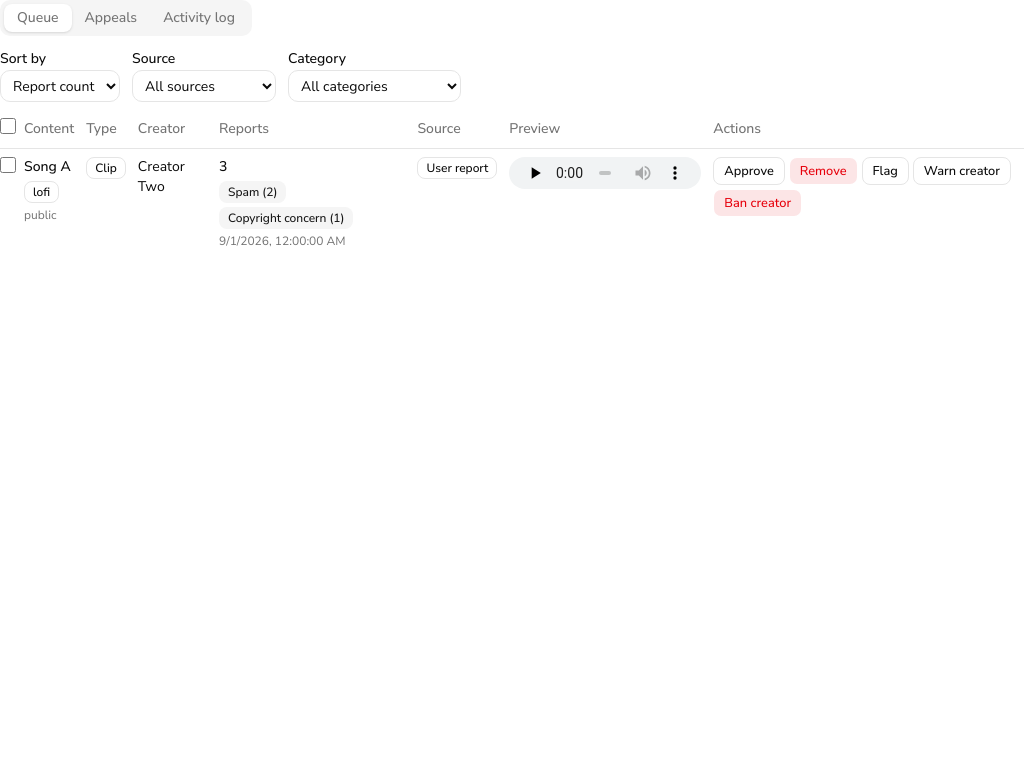
Test case: ModerationDashboard › bans a creator after confirmation (AC4)
Click the button "Ban creator": (758, 203) [713,189,802,217]
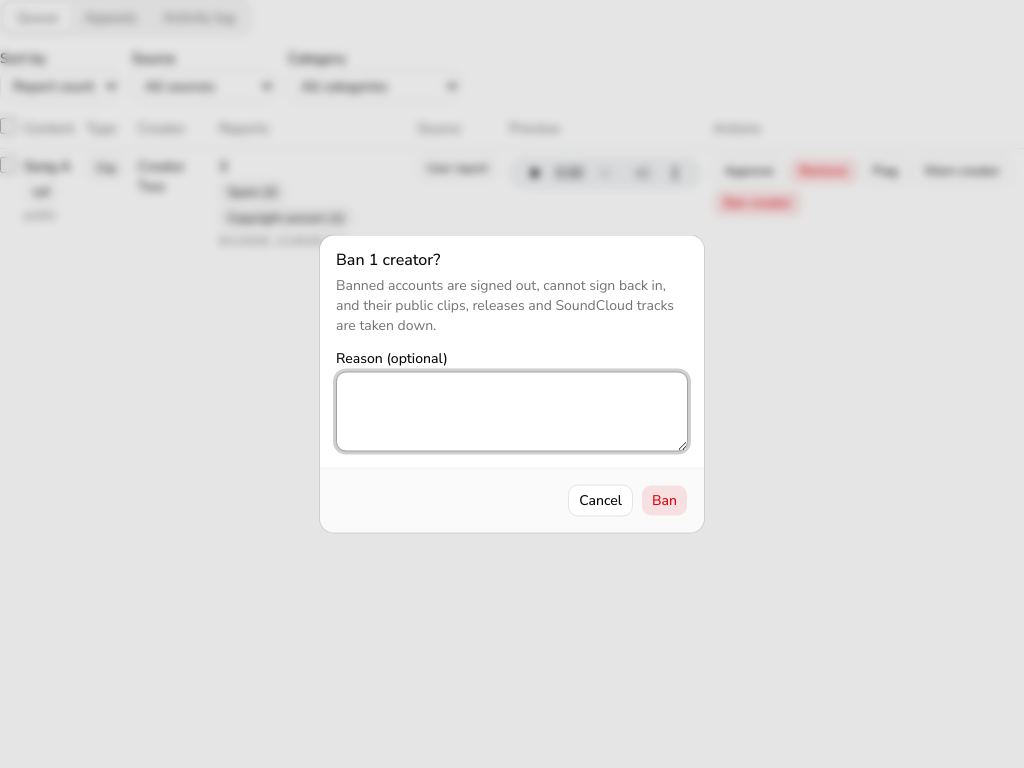
Click the button "Ban": (664, 500) [641,484,688,516]
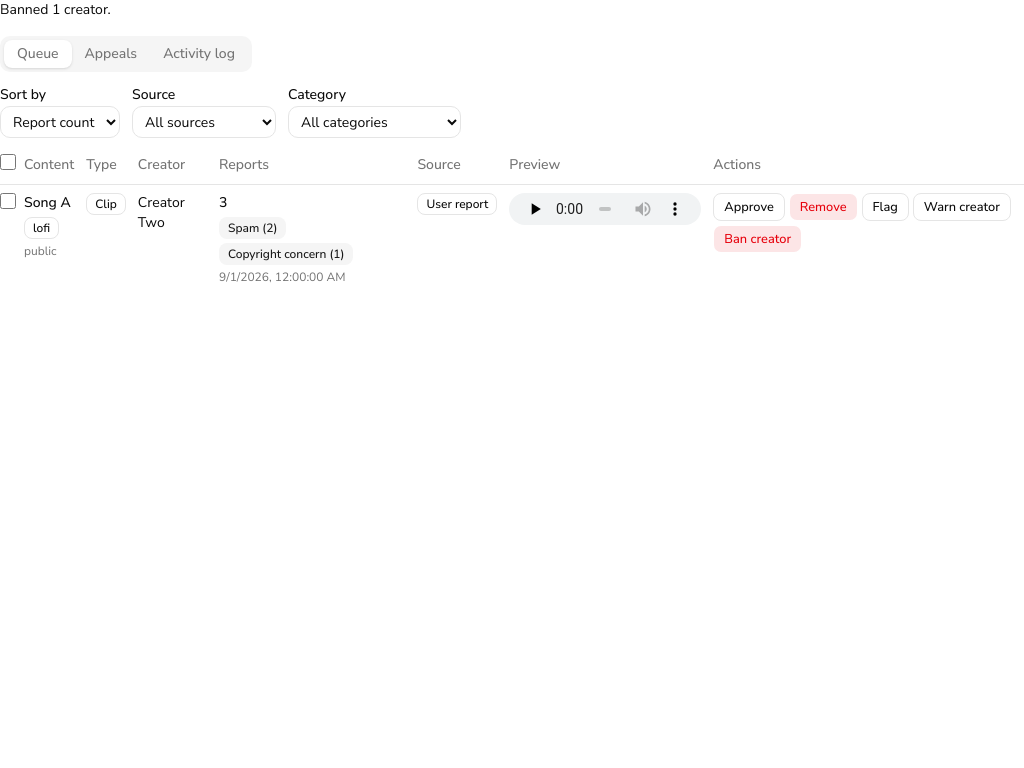
expect the message reads "Banned 1 creator.": met, box [0,0,111,19]
